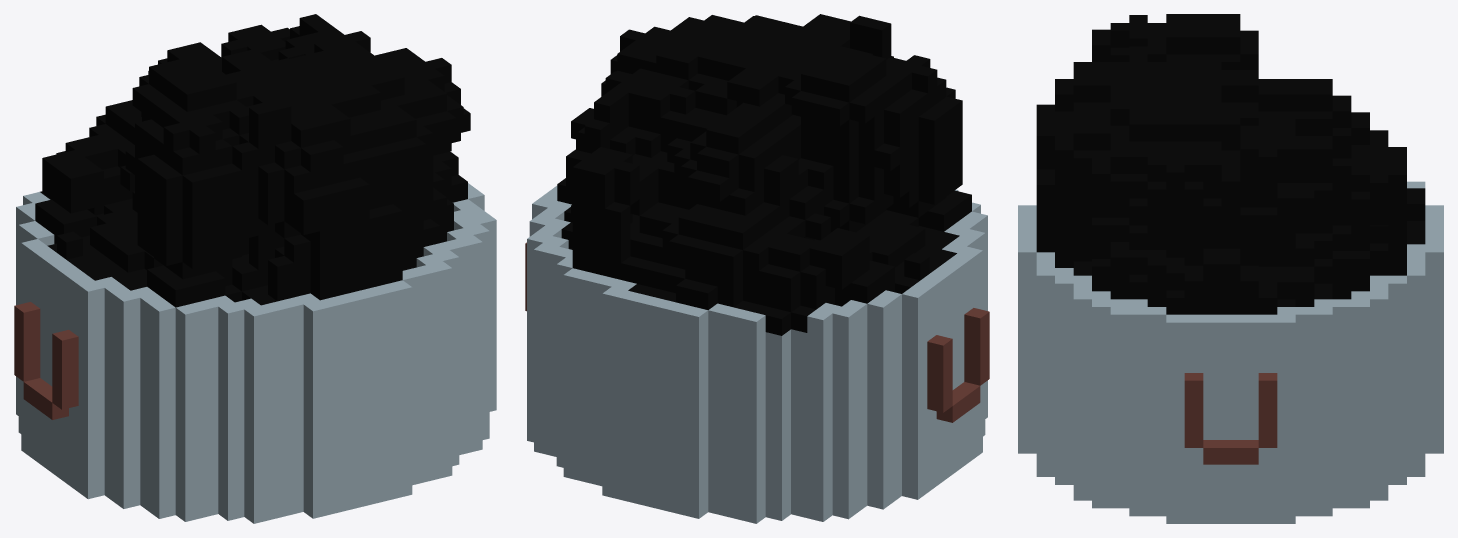
The model's file is coal.obj.
3 views of the same model, side by side, from view 1: azimuth 30°, elevation 25°; view 2: azimuth 150°, elevation 25°; view 3: azimuth 270°, elevation 25° (orthographic). The views are drawn at different scales.
Bounding box in the file's own units: 2.6 × 2.2 × 2.3.
Materials: 1 (1 with a texture image).
